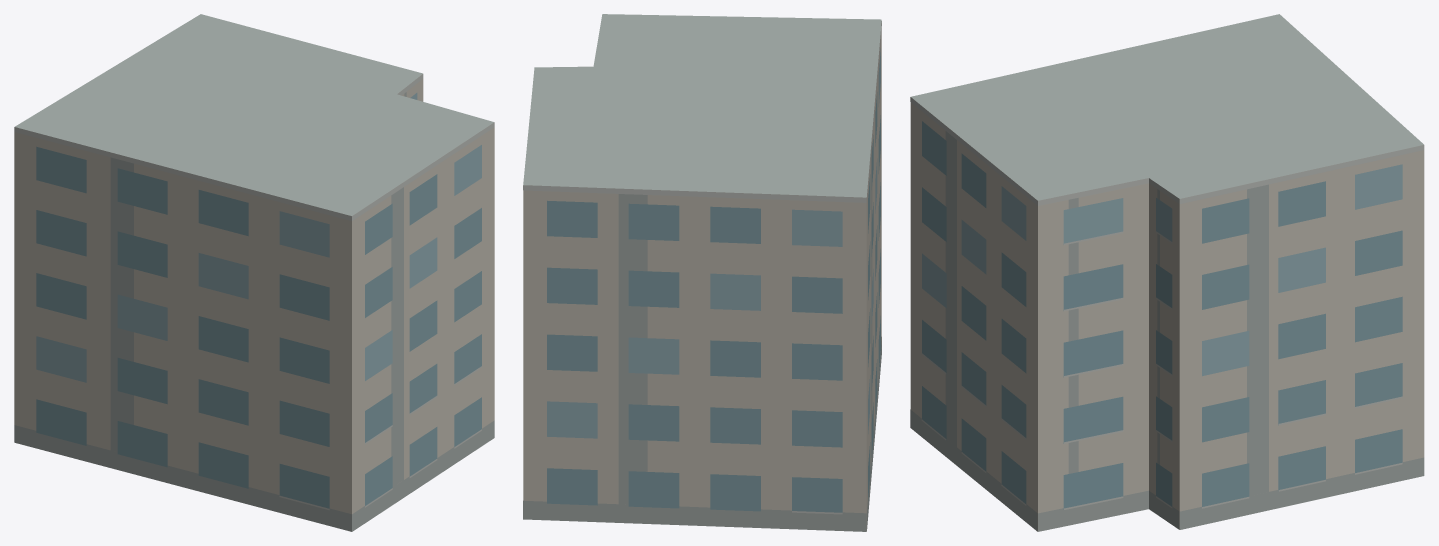
Rendered from survey-upis-32739892.glb.
3 views of the same model, side by side, from view 1: azimuth 30°, elevation 25°; view 2: azimuth 150°, elevation 25°; view 3: azimuth 270°, elevation 25° (orthographic). The views are drawn at different scales.
Parts seen in each view (by area): view 1: survey-upis-32739892.tmp; view 2: survey-upis-32739892.tmp; view 3: survey-upis-32739892.tmp.
Boxes of the visible parts, x1,y1,x2,y2 form: survey-upis-32739892.tmp: (14, 14, 494, 531); survey-upis-32739892.tmp: (523, 14, 881, 531); survey-upis-32739892.tmp: (910, 14, 1424, 531).
Bounding box in the file's own units: 18.46 × 15.25 × 21.46.
